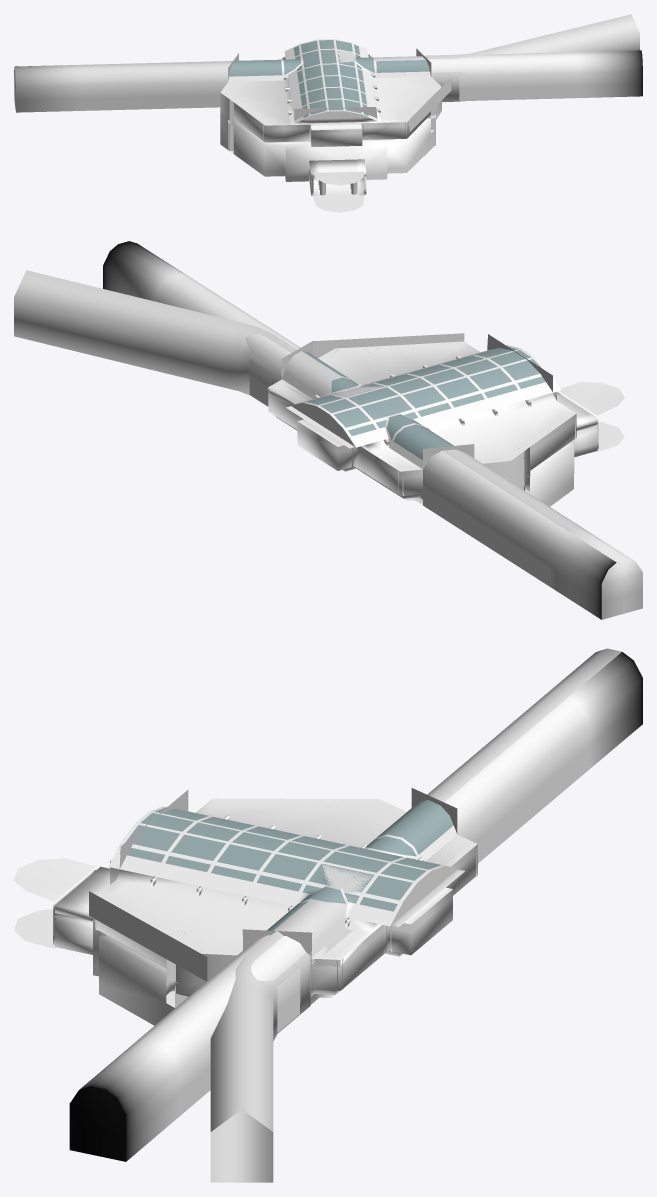
Rendered from TrainStationInterior.fbx.
The picture shows the model from 3 angles, top to bottom: view 1: azimuth 30°, elevation 25°; view 2: azimuth 150°, elevation 25°; view 3: azimuth 270°, elevation 25°; orthographic projection. The views are drawn at different scales.
Visible parts, largest first — view 1: TrainStationInterior, TrainStationInterior_COL; view 2: TrainStationInterior, TrainStationInterior_COL; view 3: TrainStationInterior, TrainStationInterior_COL.
Boxes of the visible parts, x1,y1,x2,y2 form: TrainStationInterior: (15,39,642,212); TrainStationInterior_COL: (14,14,639,195); TrainStationInterior: (103,241,624,619); TrainStationInterior_COL: (14,270,642,619); TrainStationInterior: (14,652,642,1161); TrainStationInterior_COL: (119,648,622,1182).
Bounding box in the file's own units: 13043 × 1673 × 7381.
